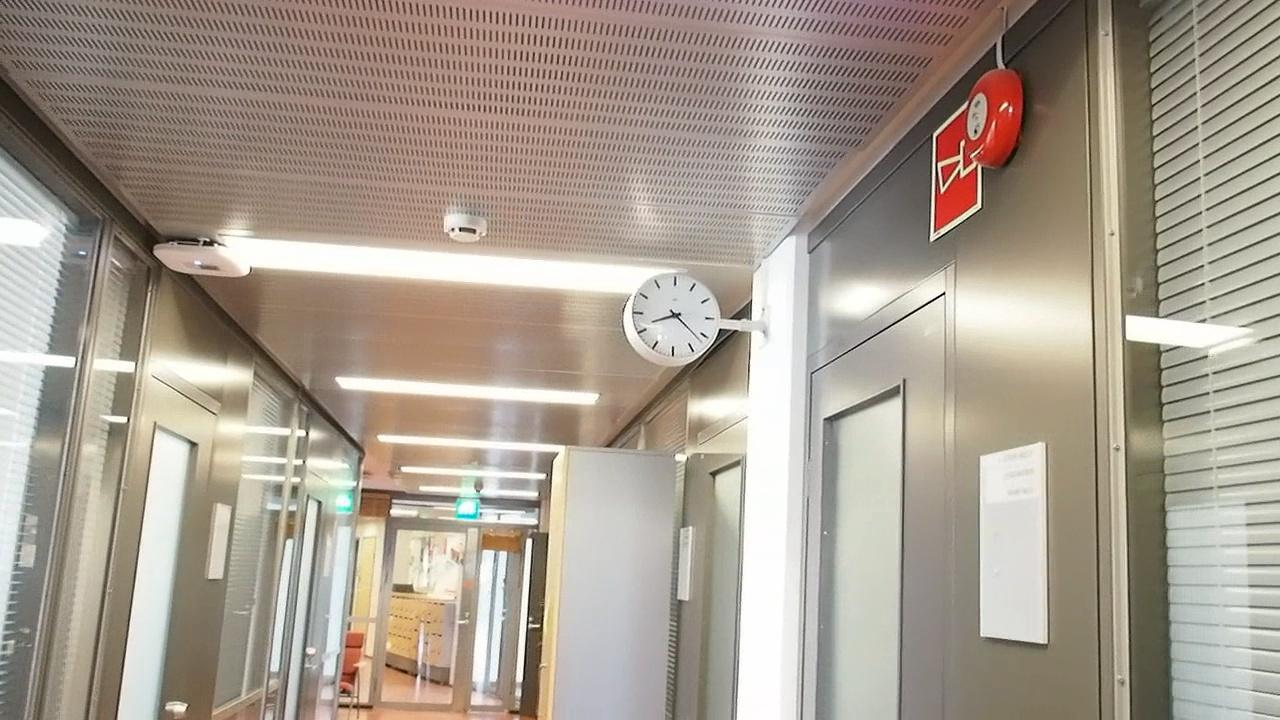clock: (623, 271, 723, 368)
